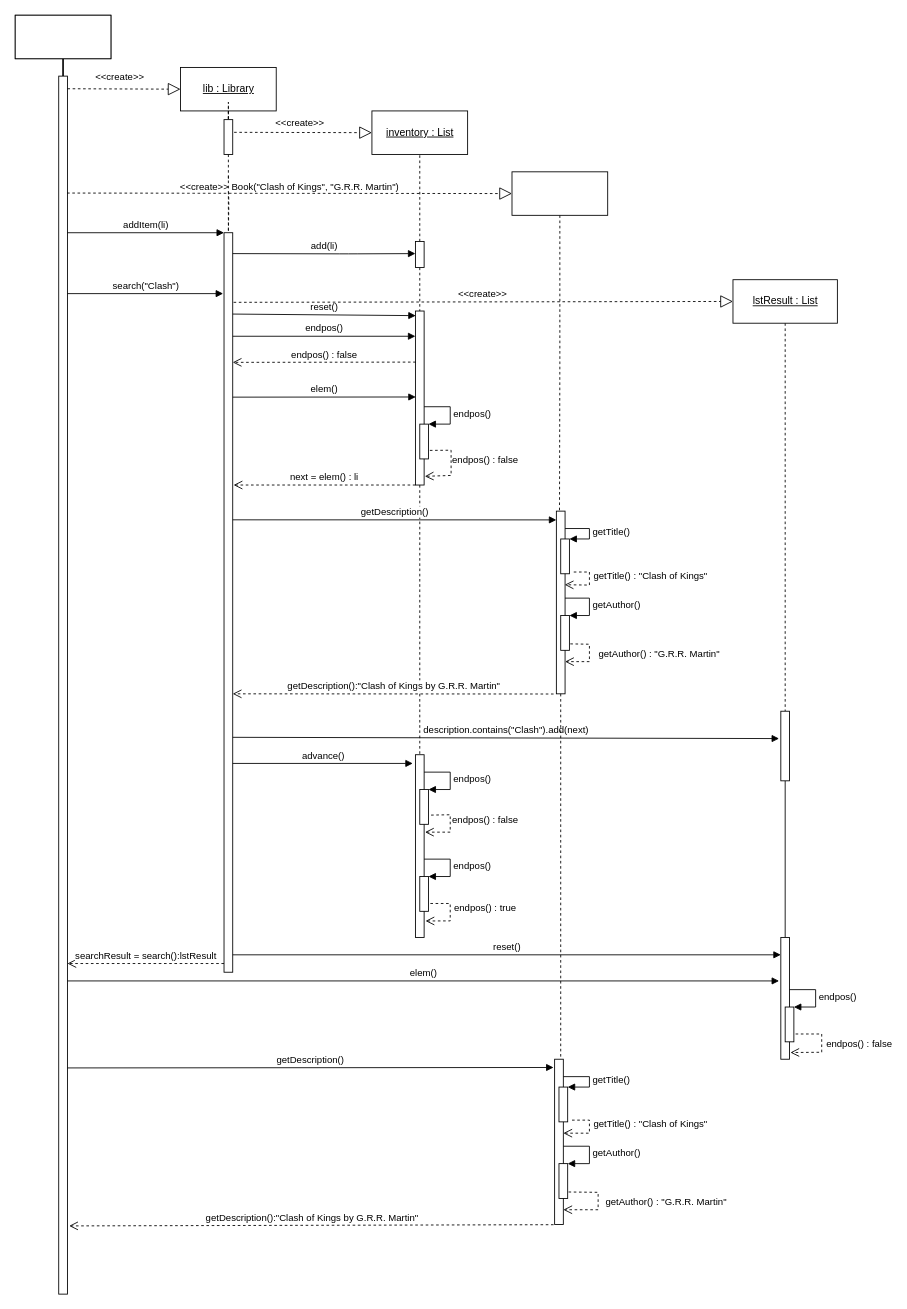
This 907x1309 diagram has some shape labels left out. Each missing label, with the centre of its shape:
li : Book: pixel 559 193
useLib : UseLibrary: pixel 62 36
